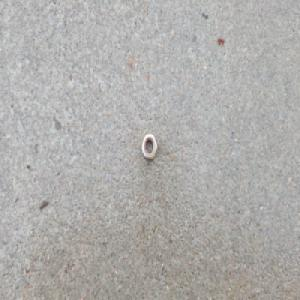Nut: (141, 131, 158, 161)
